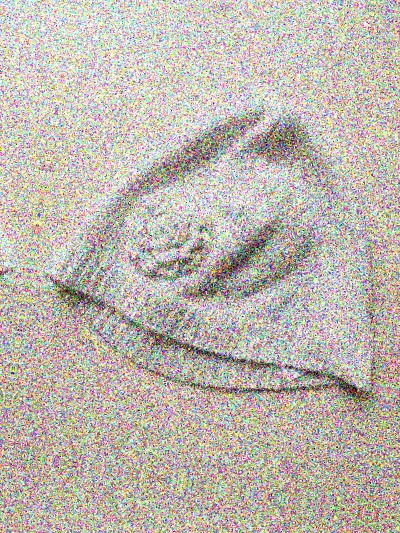Hat: (29, 48, 400, 423), (0, 0, 52, 360), (387, 108, 400, 483)
